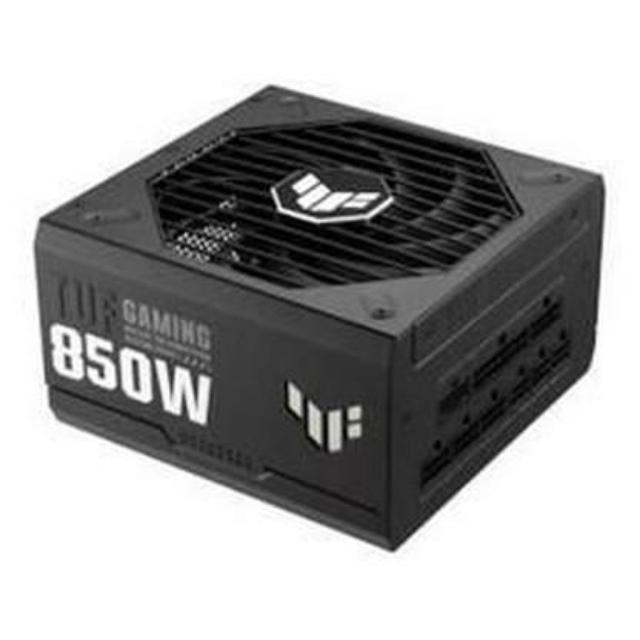PSU: (17, 77, 612, 568)
